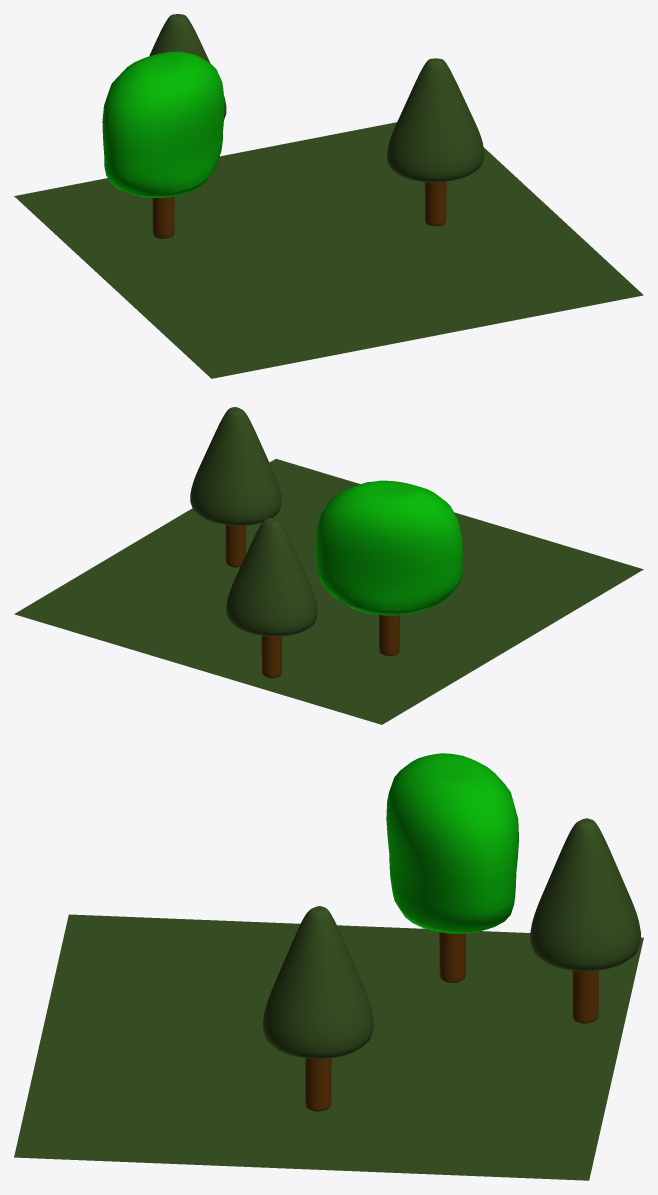
The model's file is arbolito.gltf.
3 renders of one model, top to bottom at view 1: azimuth 30°, elevation 25°; view 2: azimuth 150°, elevation 25°; view 3: azimuth 270°, elevation 25°, orthographic. The views are drawn at different scales.
Parts seen in each view (by area): view 1: polySurface31 polySurface38, polySurface31 polySurface36, polySurface31 polySurface42, polySurface35 polySurface31, polySurface31 polySurface43, polySurface31 polySurface37; view 2: polySurface31 polySurface38, polySurface31 polySurface36, polySurface35 polySurface31, polySurface31 polySurface42, polySurface31 polySurface39, polySurface31 polySurface43, polySurface31 polySurface37; view 3: polySurface31 polySurface38, polySurface31 polySurface36, polySurface35 polySurface31, polySurface31 polySurface42, polySurface31 polySurface43, polySurface31 polySurface39, polySurface31 polySurface37.
Boxes of the visible parts, left/top/right/bottom form: polySurface31 polySurface38: left=14, top=122, right=643, bottom=378; polySurface31 polySurface36: left=102, top=51, right=224, bottom=197; polySurface31 polySurface42: left=387, top=58, right=484, bottom=182; polySurface35 polySurface31: left=149, top=14, right=226, bottom=119; polySurface31 polySurface43: left=424, top=181, right=446, bottom=226; polySurface31 polySurface37: left=152, top=196, right=174, bottom=238; polySurface31 polySurface38: left=14, top=459, right=643, bottom=724; polySurface31 polySurface36: left=316, top=480, right=462, bottom=615; polySurface35 polySurface31: left=226, top=517, right=317, bottom=636; polySurface31 polySurface42: left=190, top=407, right=281, bottom=525; polySurface31 polySurface39: left=261, top=635, right=282, bottom=678; polySurface31 polySurface43: left=225, top=525, right=246, bottom=567; polySurface31 polySurface37: left=379, top=615, right=399, bottom=656; polySurface31 polySurface38: left=14, top=914, right=643, bottom=1180; polySurface31 polySurface36: left=386, top=753, right=518, bottom=933; polySurface35 polySurface31: left=530, top=818, right=640, bottom=971; polySurface31 polySurface42: left=263, top=906, right=373, bottom=1059; polySurface31 polySurface43: left=305, top=1058, right=331, bottom=1111; polySurface31 polySurface39: left=572, top=970, right=598, bottom=1023; polySurface31 polySurface37: left=439, top=932, right=465, bottom=982.
Size of the model in its own units: 40.25 by 14.83 by 40.25.
